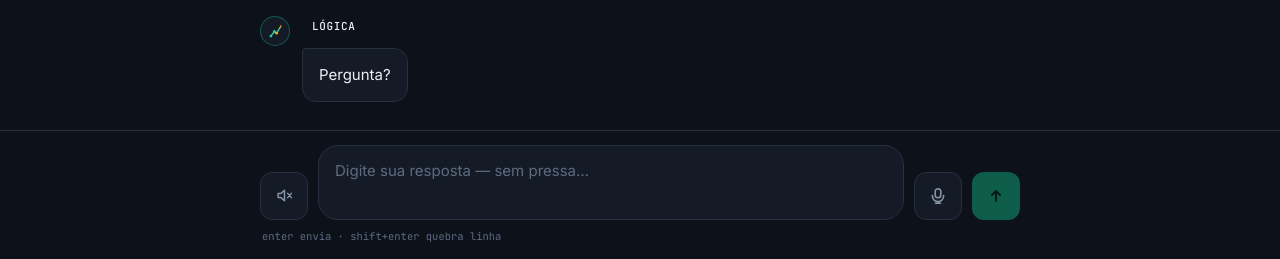
it: InterviewPage — gravação por voz › resultado final com draft pré-existente adiciona separador de espaço
Check: the text "Pergunta?" is shown, box [302,48,408,102]
Type "abc" into the text box labelled "sua resposta" at [611, 182], box [318,145,904,220]
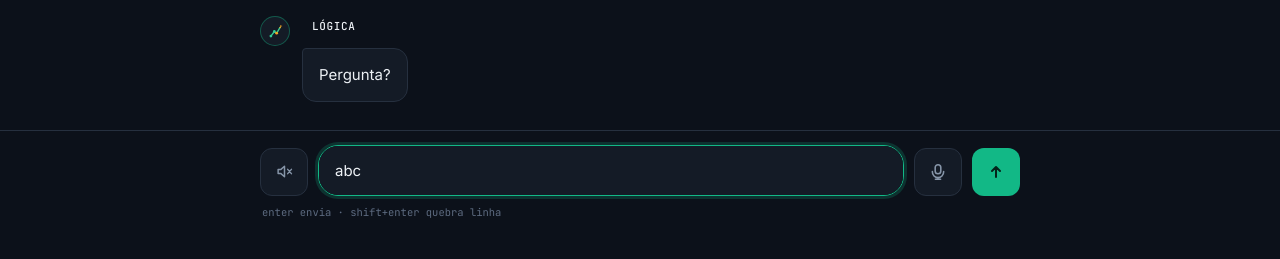
Click the button named "responder por voz" at [938, 172], box [914,148,962,196]
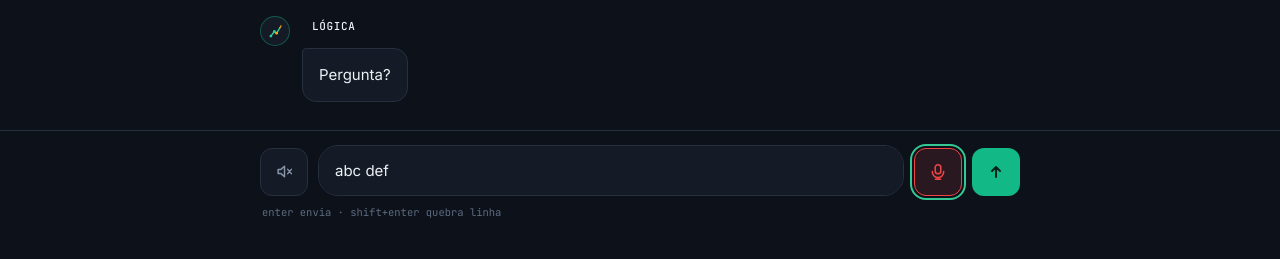
Check: the text box named "sua resposta" holds "abc def", box [318,145,904,196]
